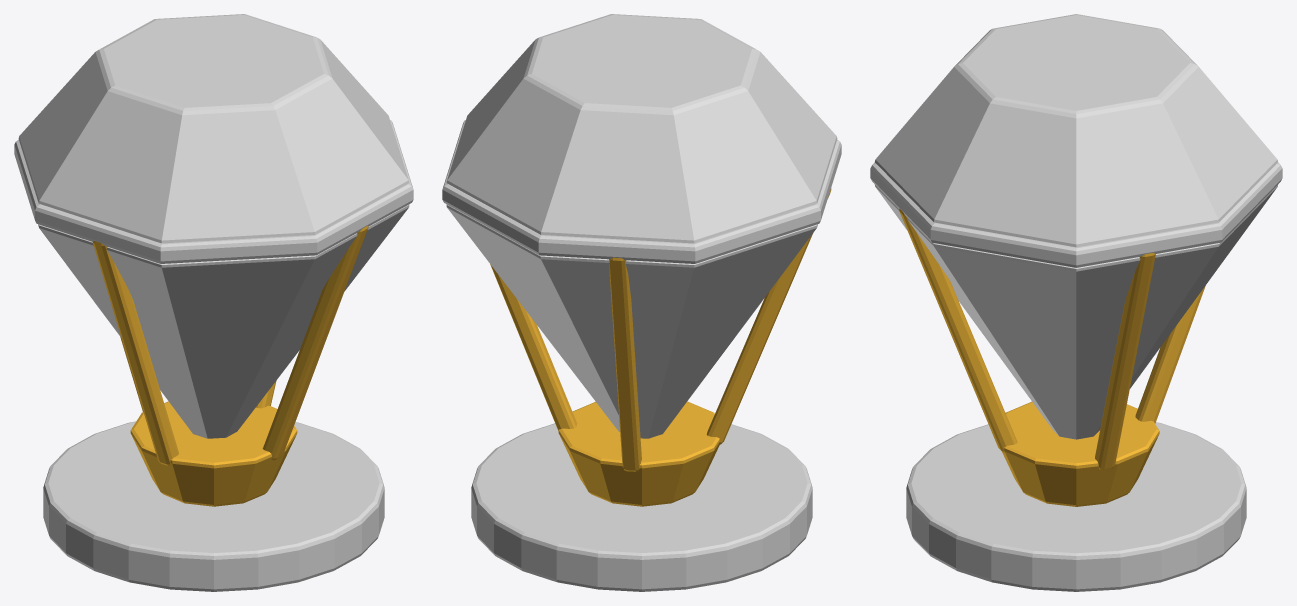
Rendered from diamond.glb.
3 views of the same model, side by side, from view 1: azimuth 30°, elevation 25°; view 2: azimuth 150°, elevation 25°; view 3: azimuth 270°, elevation 25° (orthographic).
Parts seen in each view (by area): view 1: PawnDiamond; view 2: PawnDiamond; view 3: PawnDiamond.
Part boxes in pixels (left/top/right/bottom): PawnDiamond: left=14, top=14, right=413, bottom=591; PawnDiamond: left=442, top=14, right=841, bottom=591; PawnDiamond: left=870, top=14, right=1282, bottom=591.
Size of the model in its own units: 0.484 by 0.595 by 0.484.
